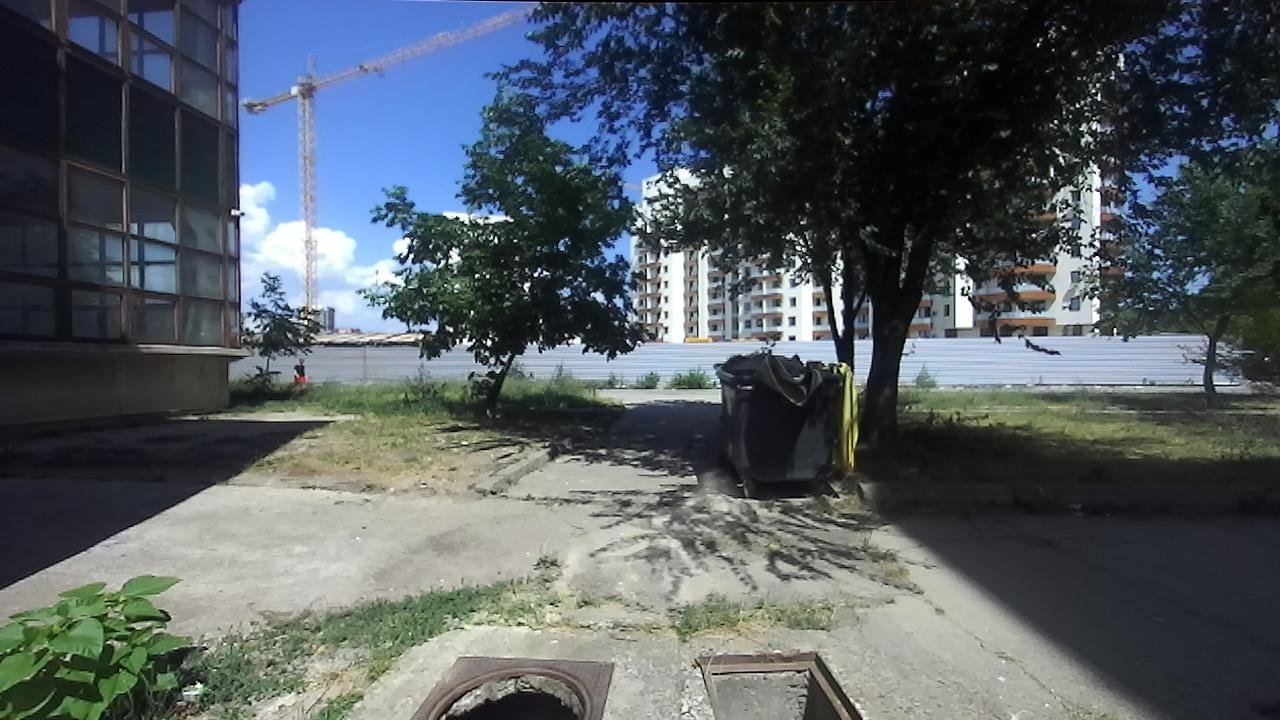drain: (693, 649, 862, 718), (418, 664, 599, 717)
